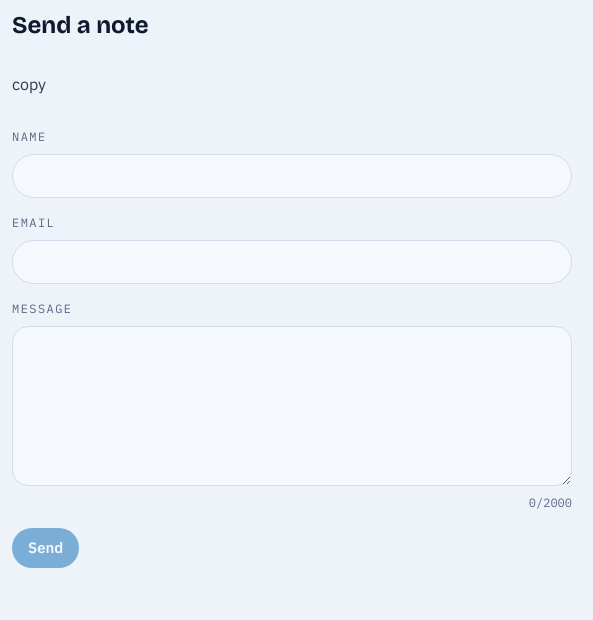
ContactForm submit › network keeps the entered text and shows retry copy without body.message
The width and height of the screenshot is (593, 620).
Type "Bob" into the field labelled "Name" at (292, 176), box [12,154,572,198]
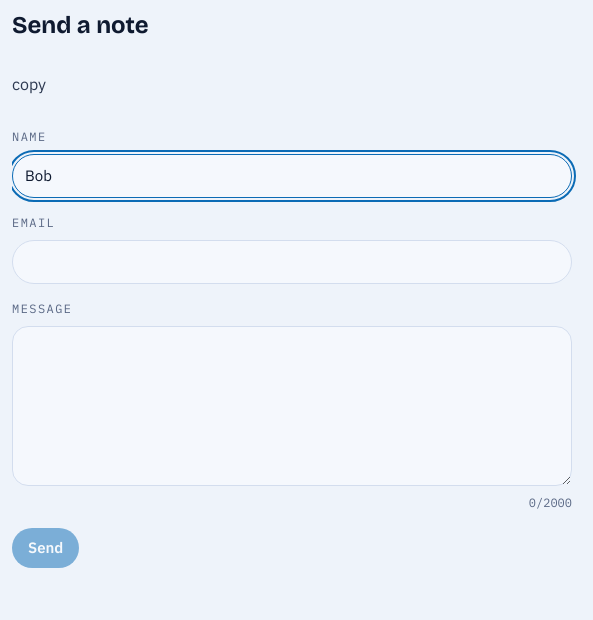
Type "b@x.co" into the field labelled "Email" at (292, 262), box [12,240,572,284]
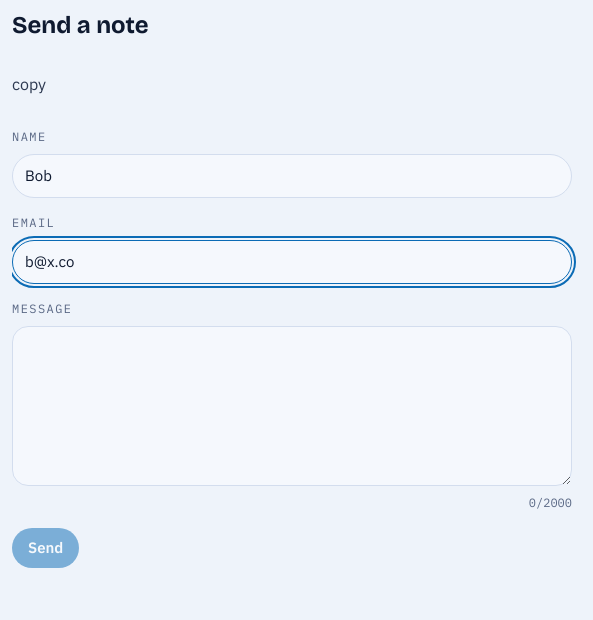
Type "hi" into the text box labelled "Message" at (292, 406), box [12,326,572,486]
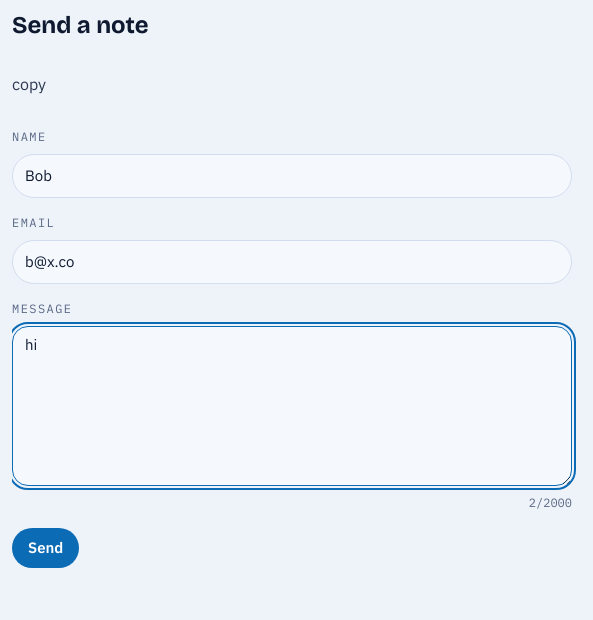
Click the button with test id "contact-submit" at (46, 548), box [12,528,79,568]
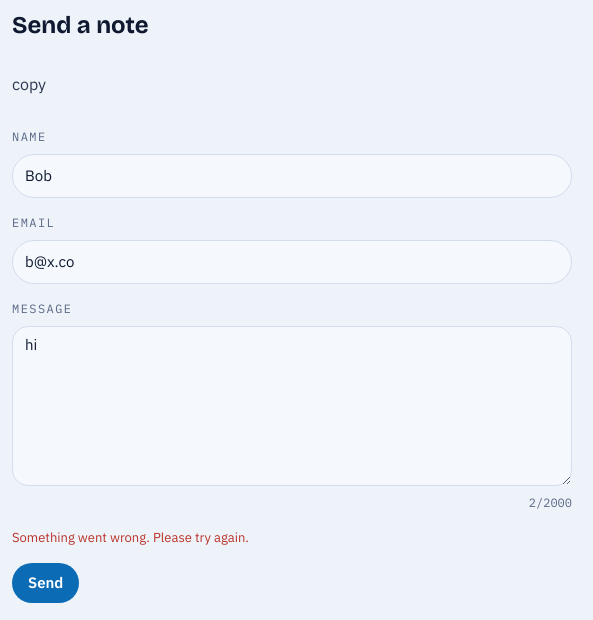
Expected: the message "Something went wrong. Please try again." is shown, [12,529,249,546]
